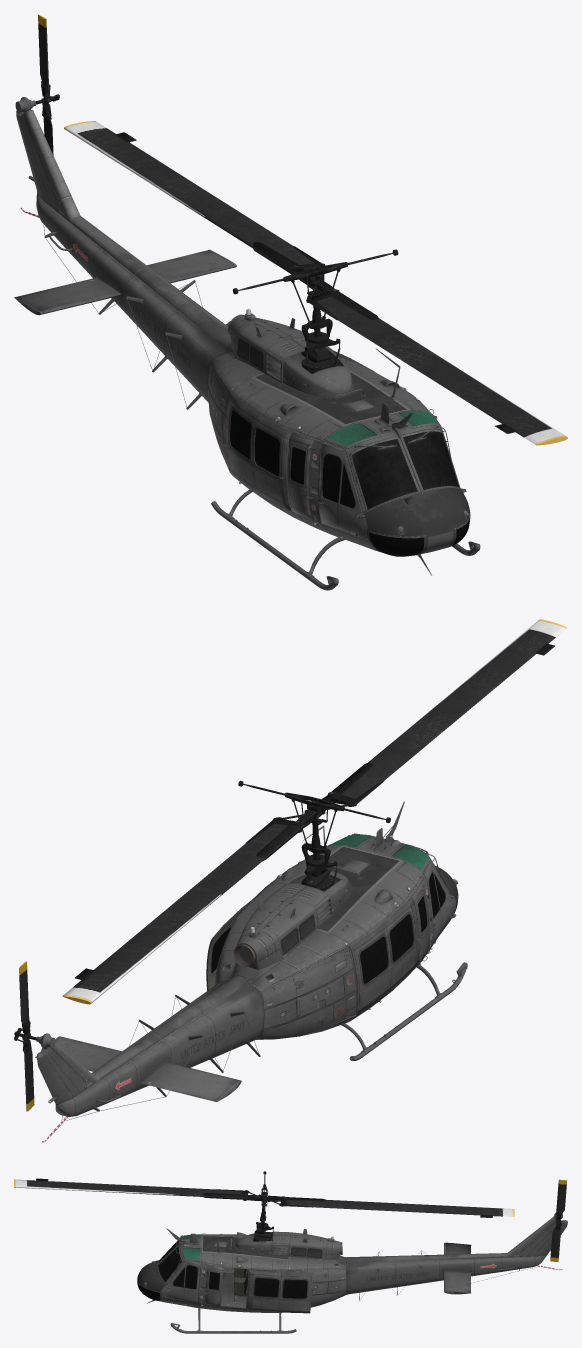
The model's file is Helicoopter (1).fbx.
3 renders of one model, top to bottom at view 1: azimuth 30°, elevation 25°; view 2: azimuth 150°, elevation 25°; view 3: azimuth 270°, elevation 25°, orthographic. The views are drawn at different scales.
Visible parts, largest first — view 1: Helicopter; view 2: Helicopter; view 3: Helicopter.
Boxes of the visible parts, x1=… form: Helicopter: x1=14, y1=14, x2=567, y2=590; Helicopter: x1=14, y1=619, x2=567, y2=1142; Helicopter: x1=14, y1=1171, x2=567, y2=1333.
Size of the model in its own units: 36.93 by 50.04 by 178.
Materials: 5 (5 with a texture image).
